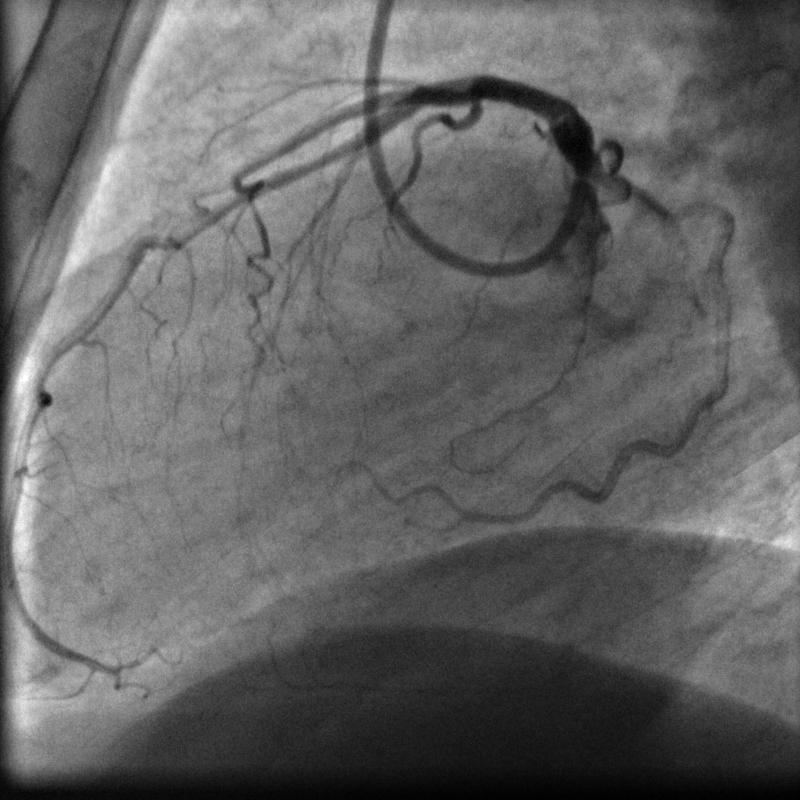Stenosis: (441, 77, 490, 116)
